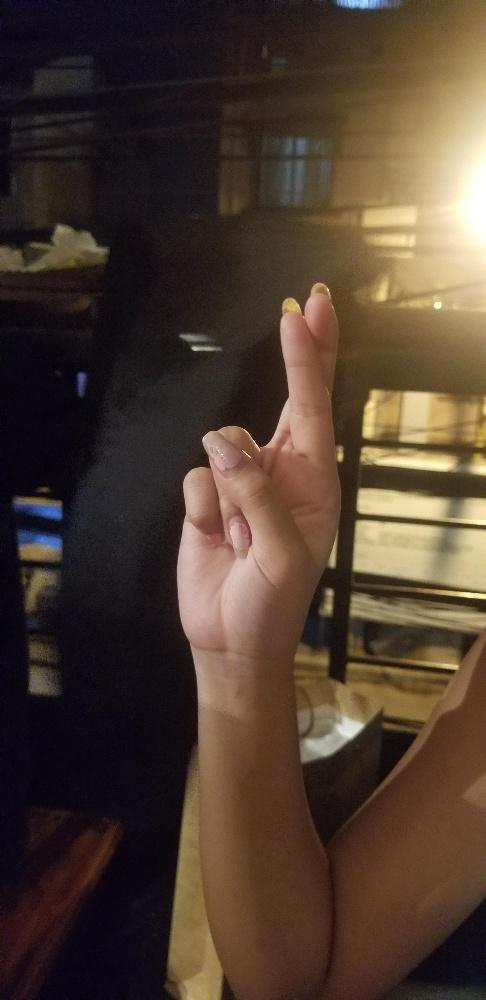r: (171, 279, 346, 663)
